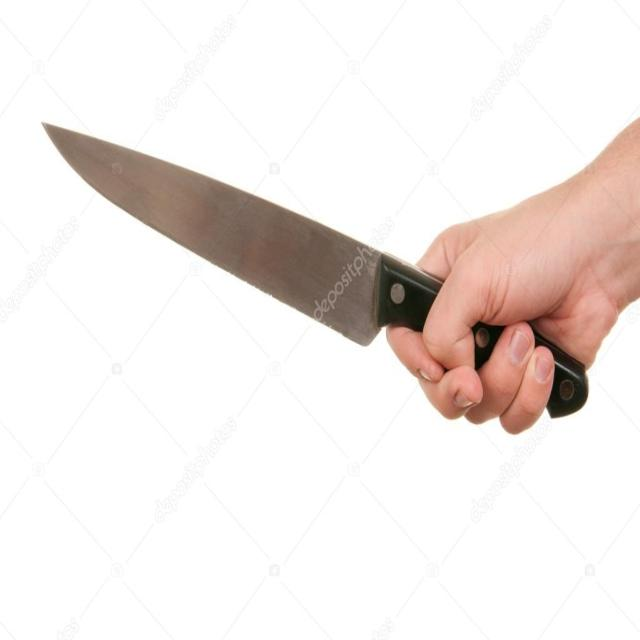knife: (37, 108, 590, 418)
